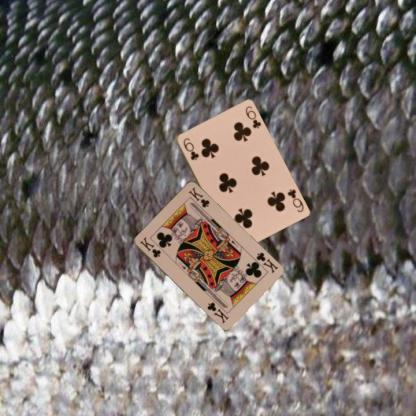6c: (284, 186, 304, 213), (180, 135, 200, 161)
Kc: (137, 234, 162, 259), (254, 250, 279, 275)
